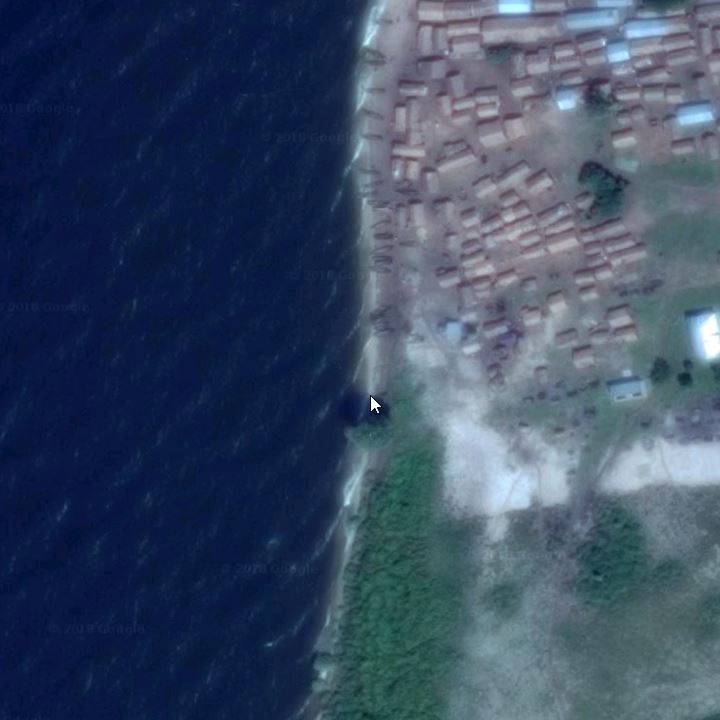boat: (367, 218, 394, 232), (359, 108, 386, 122), (359, 130, 386, 144), (366, 243, 394, 255), (360, 85, 387, 97), (356, 165, 385, 176), (360, 58, 389, 68), (371, 329, 397, 339), (371, 256, 394, 267), (364, 198, 387, 209), (368, 318, 393, 328), (367, 267, 394, 276), (362, 178, 386, 188), (368, 207, 394, 216), (372, 233, 397, 242), (354, 190, 382, 197)
